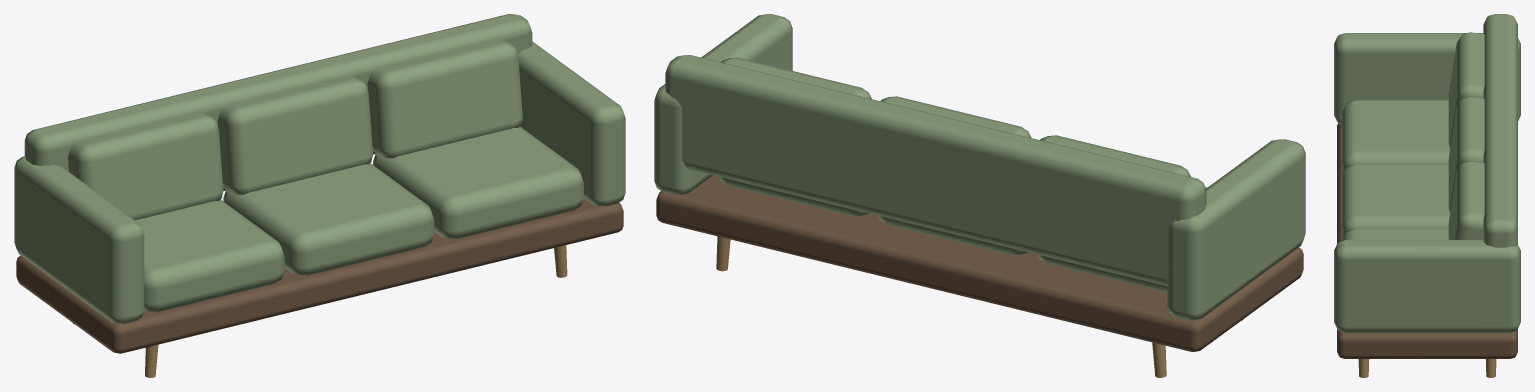
The model's file is loungedesignsofa.glb.
The picture shows the model from 3 angles, left to right: view 1: azimuth 30°, elevation 25°; view 2: azimuth 150°, elevation 25°; view 3: azimuth 270°, elevation 25°; orthographic projection. The views are drawn at different scales.
Visible parts, largest first — view 1: atelier-warm-loungedesignsofa; view 2: atelier-warm-loungedesignsofa; view 3: atelier-warm-loungedesignsofa.
Boxes of the visible parts, <box> form: atelier-warm-loungedesignsofa: <box>14,14,625,377</box>; atelier-warm-loungedesignsofa: <box>654,14,1305,377</box>; atelier-warm-loungedesignsofa: <box>1334,14,1520,377</box>.
Size of the model in its own units: 2.77 by 1 by 0.9884.
